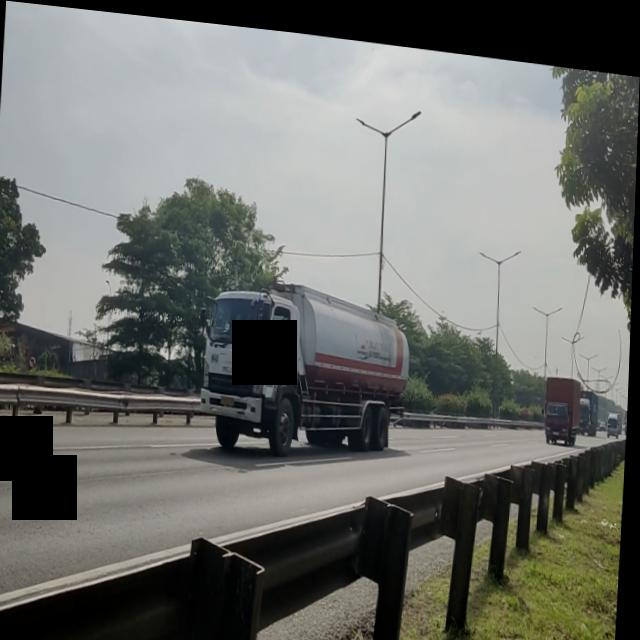Golongan III: (193, 253, 418, 470)
